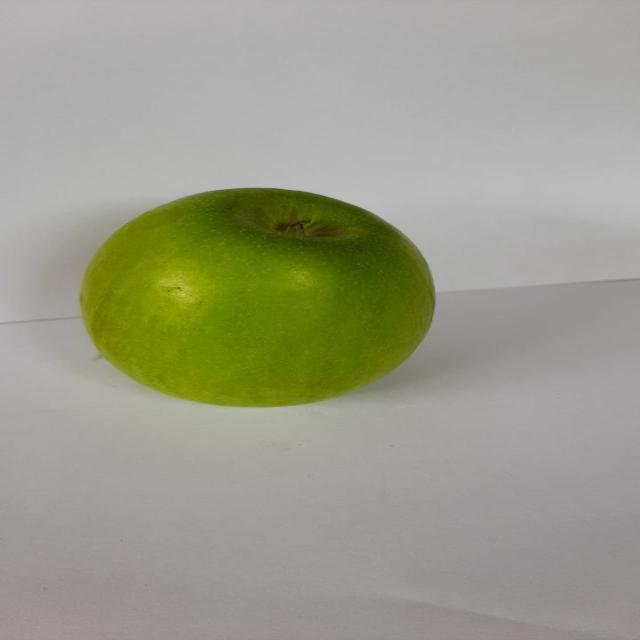50-_ripeness: (70, 176, 447, 414)
